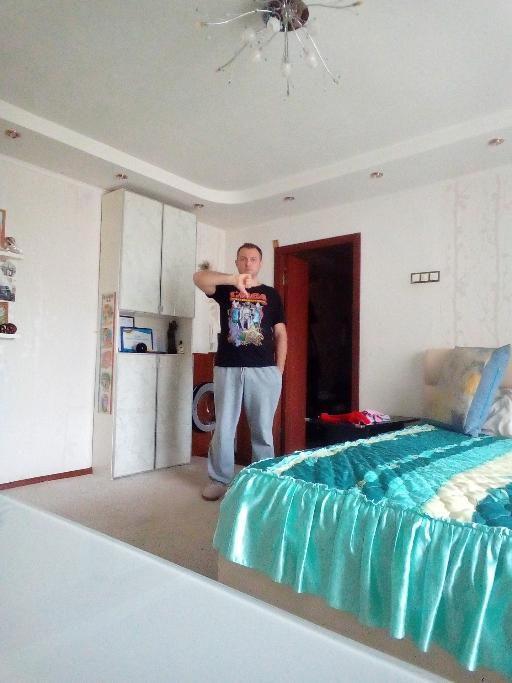dislike: (233, 272, 252, 299)
